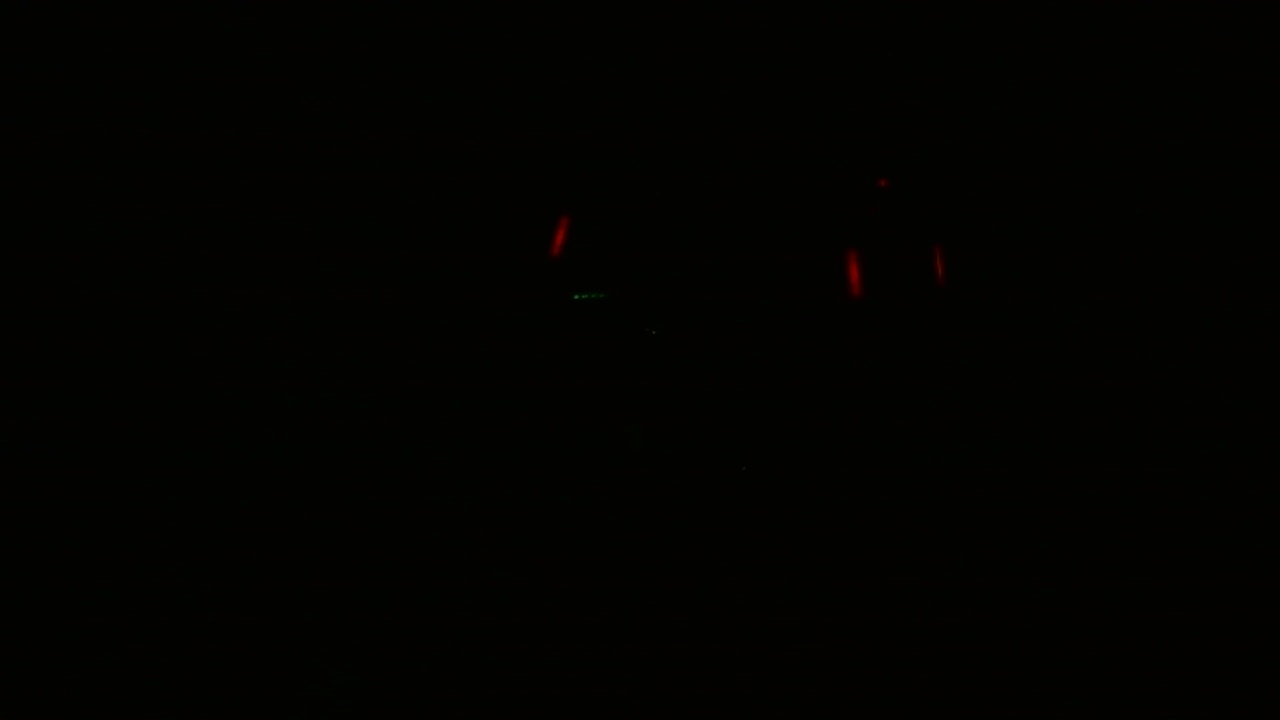pair1: (845, 242, 949, 298)
